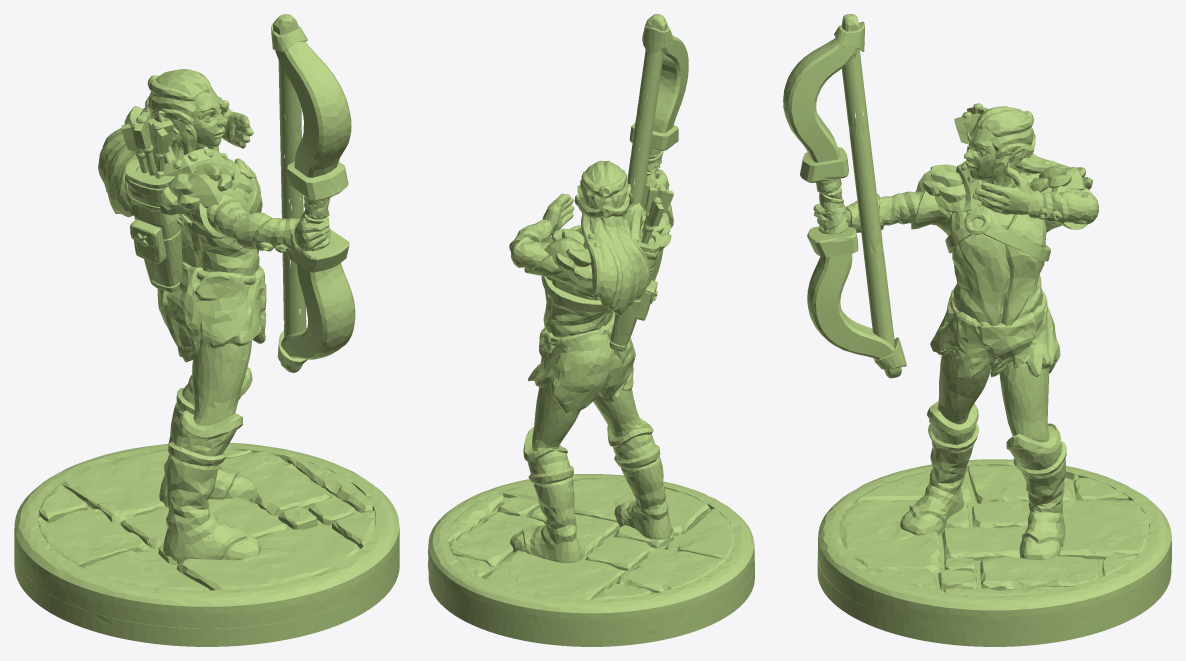
The model's file is alendra.glb.
3 renders of one model, left to right at view 1: azimuth 30°, elevation 25°; view 2: azimuth 150°, elevation 25°; view 3: azimuth 270°, elevation 25°, orthographic. The views are drawn at different scales.
Visible parts, largest first — view 1: elandra; view 2: elandra; view 3: elandra.
Part boxes in pixels (<box>): elandra: <box>14,14,399,646</box>; elandra: <box>428,14,754,646</box>; elandra: <box>783,14,1171,646</box>.
Size of the model in its own units: 29.93 by 51.99 by 32.87.
